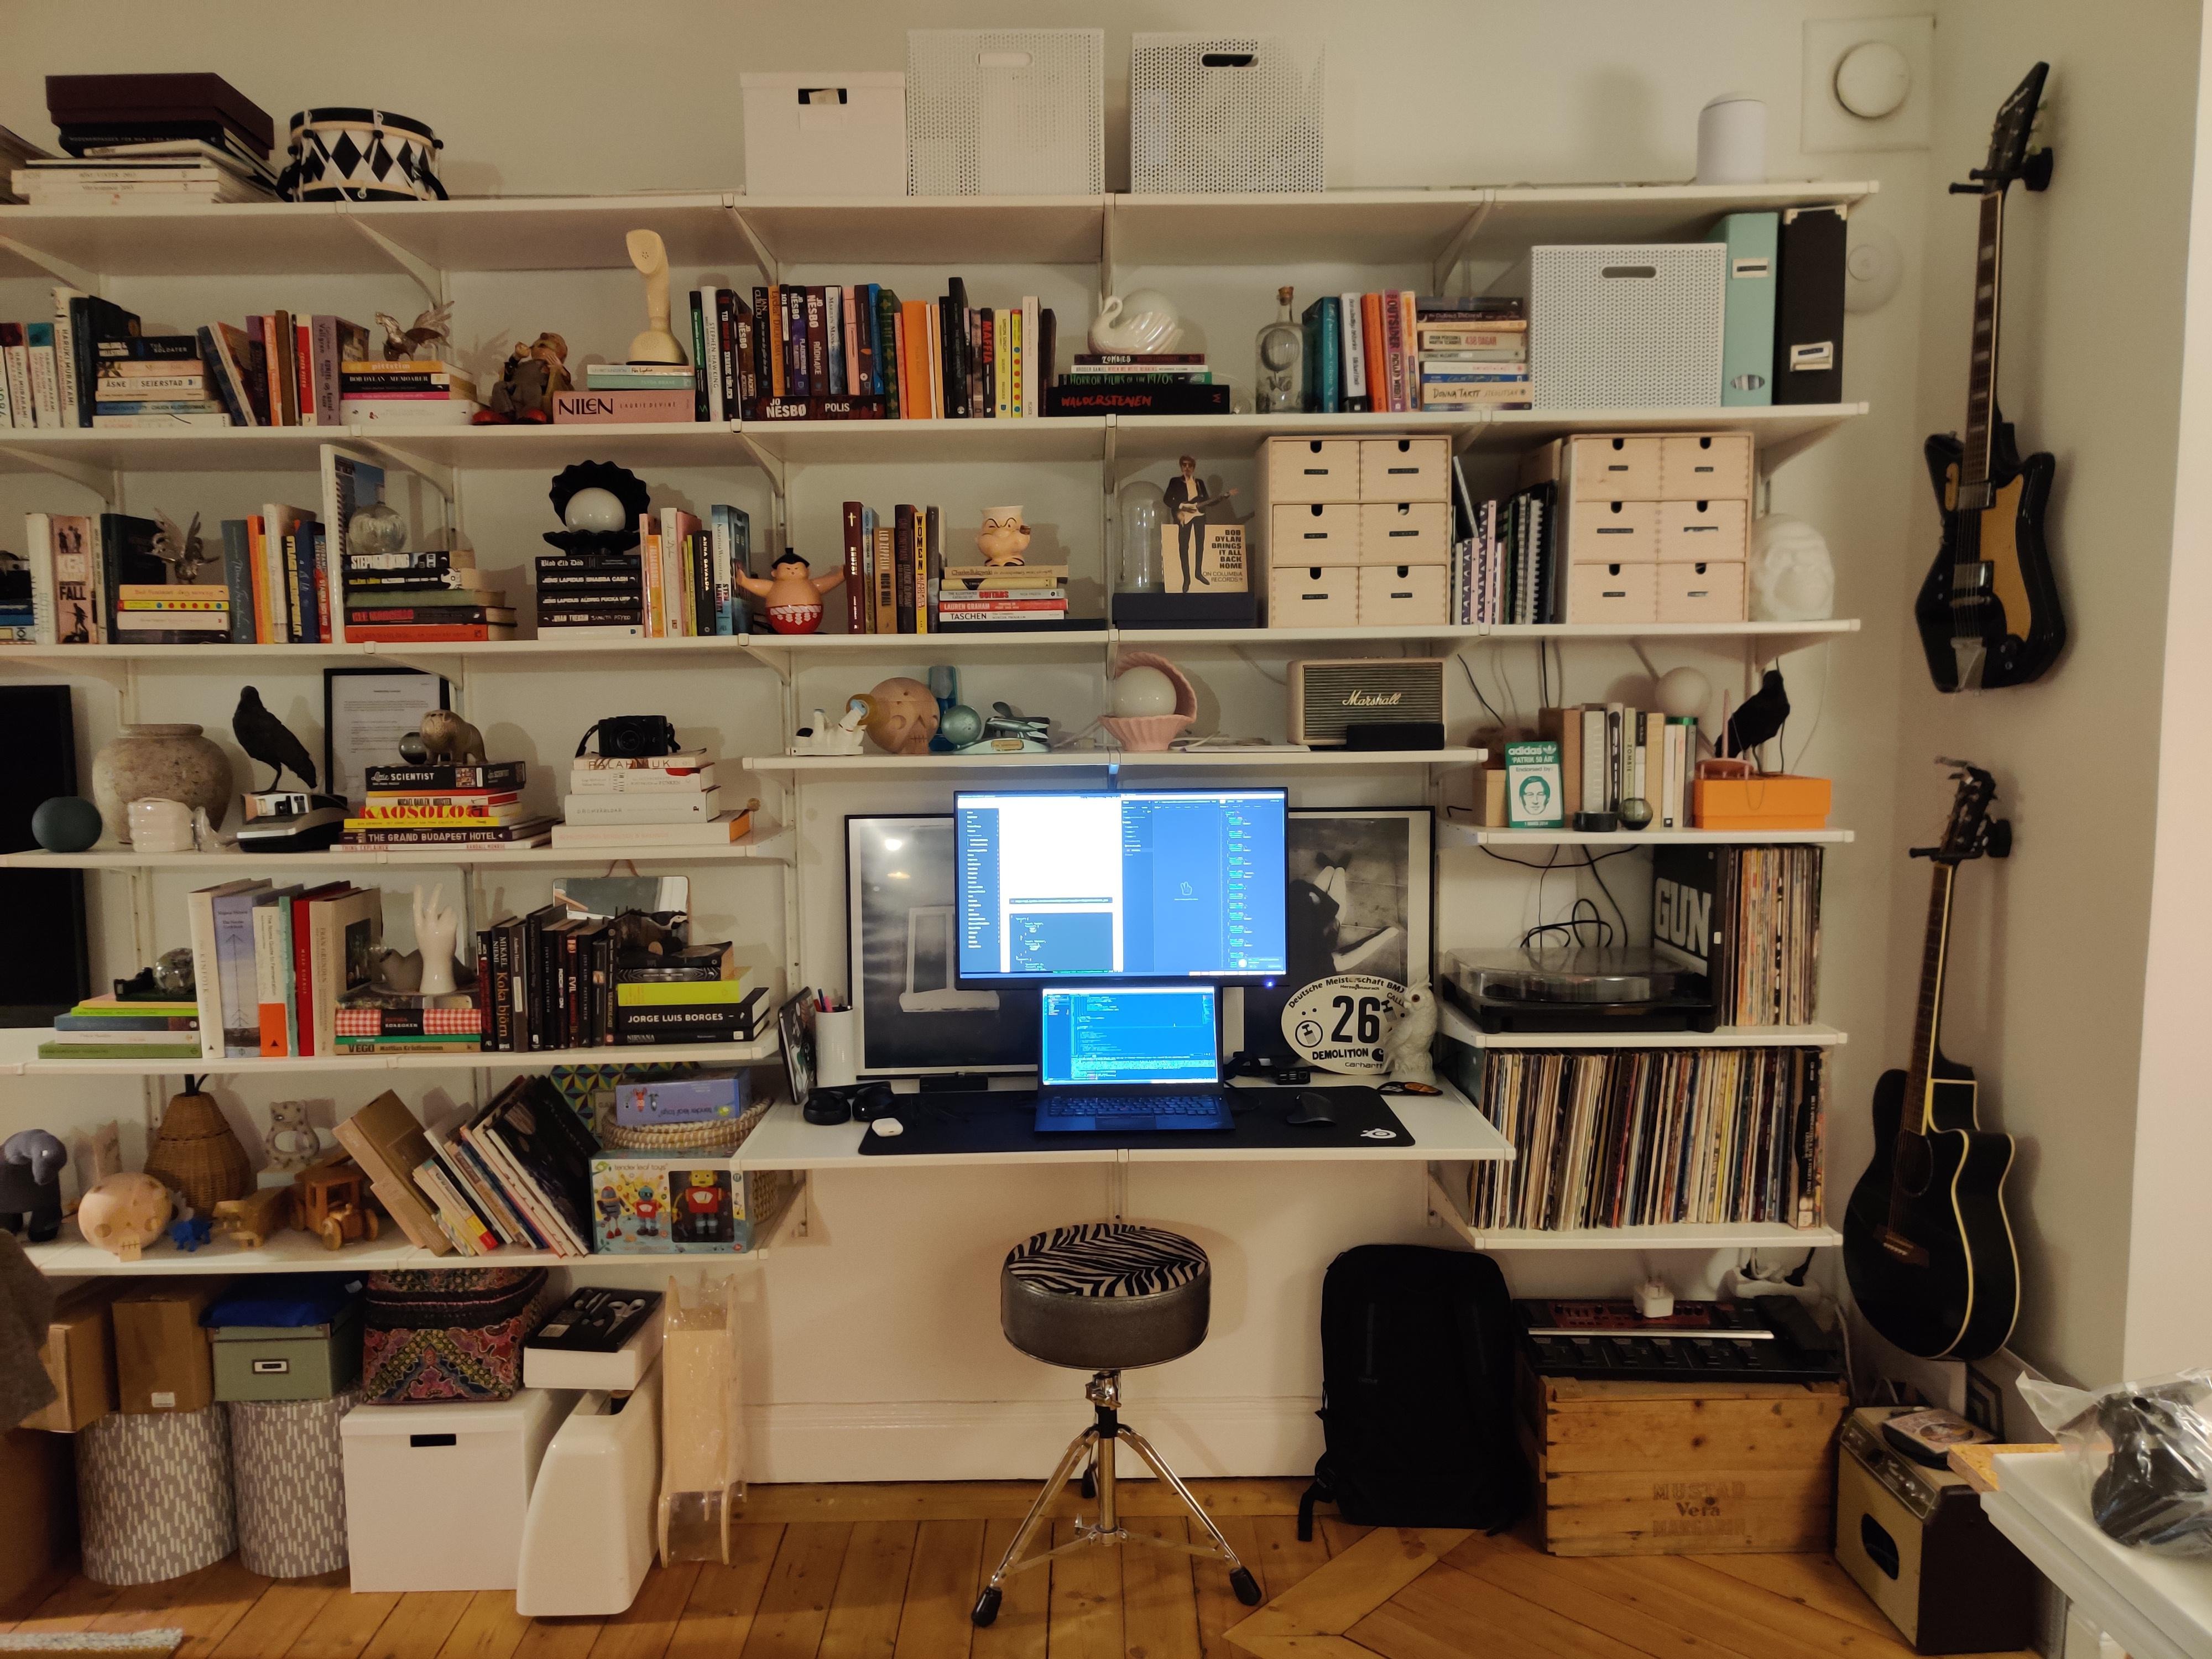Airpods (Apple): (867, 1110, 909, 1140)
Chair (Generic): (975, 1227, 1263, 1628)
Decoration (Generic): (841, 805, 1049, 1077), (1233, 802, 1439, 1065), (1271, 969, 1428, 1073), (1381, 976, 1439, 1087)
Desk (Generic): (726, 1060, 1521, 1171)
Headphones: (803, 1077, 897, 1124)
Laptop (Generic): (775, 983, 824, 1107)
Laptop (Windows): (1033, 983, 1238, 1133)
Monitor (Landscape): (949, 788, 1292, 990)
Mouse (Ergonomic): (1278, 1089, 1346, 1131)
Mousepad (Gaming): (864, 1080, 1416, 1161)
Musical Instrument (Electric Guitar): (1895, 58, 2080, 690)
Musical Instrument (Guitar): (1824, 753, 2034, 1364)
USB Hub: (1268, 1054, 1310, 1084)
